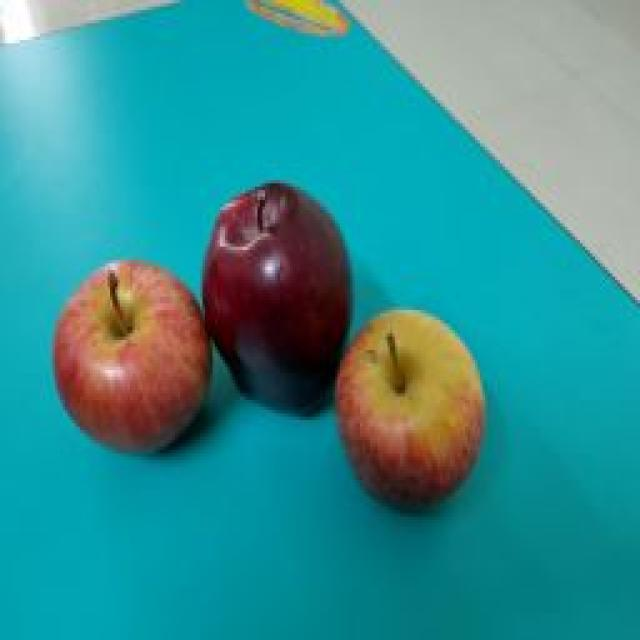Good_Apple: (200, 183, 352, 420), (332, 310, 488, 520), (52, 260, 210, 460)
